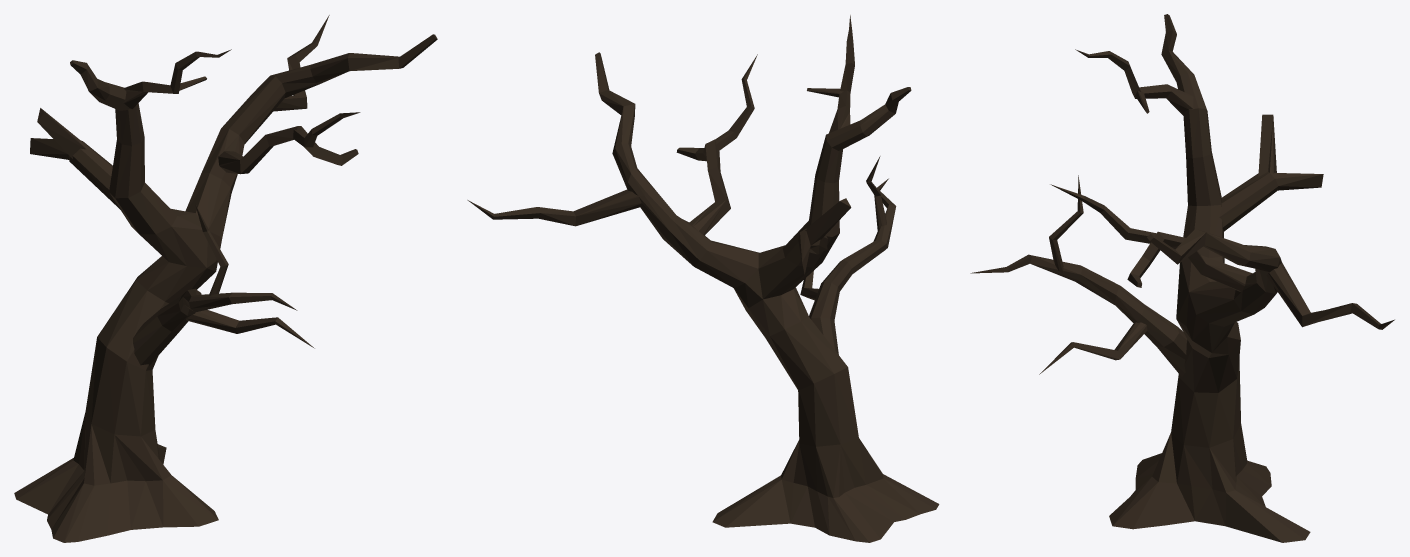
Rendered from Tree_Dead_Large_01.fbx.
3 views of the same model, side by side, from view 1: azimuth 30°, elevation 25°; view 2: azimuth 150°, elevation 25°; view 3: azimuth 270°, elevation 25° (orthographic). The views are drawn at different scales.
Parts seen in each view (by area): view 1: Model; view 2: Model; view 3: Model.
Boxes of the visible parts, box(x1,y1,x2,y2) form: Model: box(14, 15, 437, 542); Model: box(467, 15, 939, 542); Model: box(970, 14, 1394, 542).
Size of the model in its own units: 1625 by 1892 by 1545.
